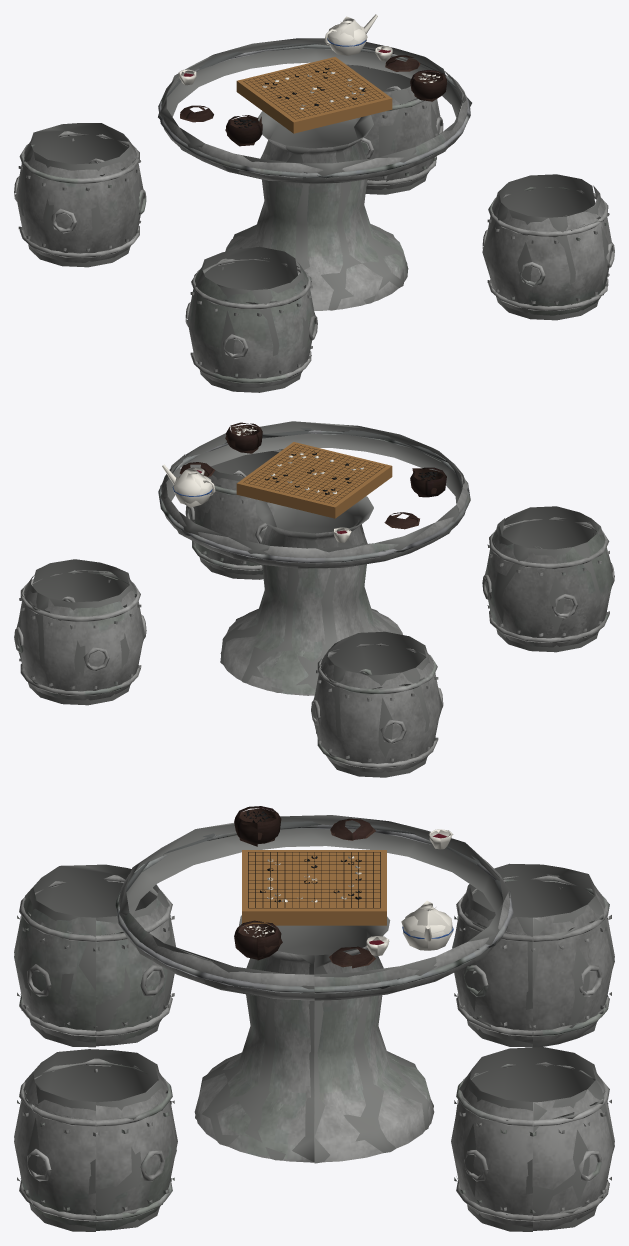
File: prop_go_table.gltf
The picture shows the model from 3 angles, top to bottom: view 1: azimuth 30°, elevation 25°; view 2: azimuth 150°, elevation 25°; view 3: azimuth 270°, elevation 25°; orthographic projection. The views are drawn at different scales.
Visible parts, largest first — view 1: Near, Far; view 2: Near, Far; view 3: Near, Far.
Boxes of the visible parts, x1,y1,x2,y2 form: Near: (14,14,614,387); Far: (20,16,610,392); Near: (14,422,614,772); Far: (14,421,614,777); Near: (14,806,614,1230); Far: (14,808,614,1231).
Size of the model in its own units: 1.91 by 0.9046 by 1.91.
11 materials, 4 textured.
